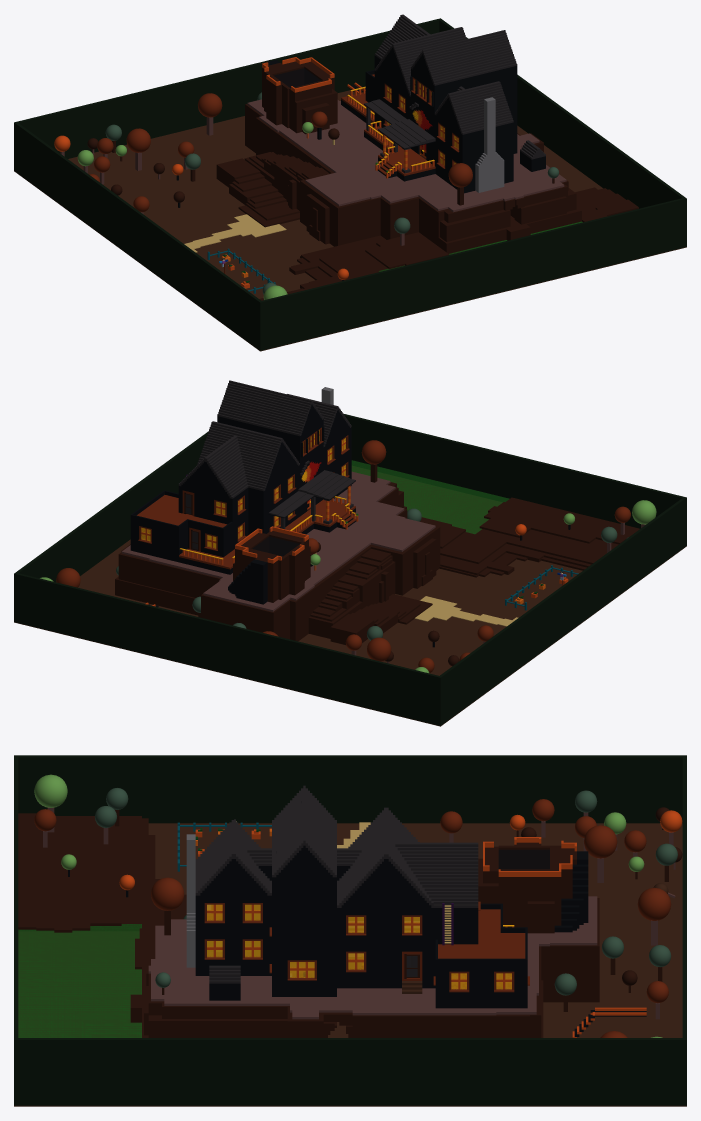
File: HauntedMansion.obj
The picture shows the model from 3 angles, top to bottom: view 1: azimuth 30°, elevation 25°; view 2: azimuth 150°, elevation 25°; view 3: azimuth 270°, elevation 25°; orthographic projection. The views are drawn at different scales.
Visible parts, largest first — view 1: SmoothBlockModel501, Floor1, SmoothBlockModel500, SmoothBlockModel499, SmoothBlockModel498, SmoothBlockModel328, SmoothBlockModel408, SmoothBlockModel400, SmoothBlockModel321, SmoothBlockModel385, SmoothBlockModel482, SmoothBlockModel461 (+21 smaller); view 2: SmoothBlockModel499, Floor1, SmoothBlockModel501, SmoothBlockModel500, SmoothBlockModel498, Greengoo1, SmoothBlockModel328, SmoothBlockModel470, SmoothBlockModel492, SmoothBlockModel452, SmoothBlockModel461, SmoothBlockModel408 (+23 smaller); view 3: SmoothBlockModel498, SmoothBlockModel500, Floor1, Greengoo1, SmoothBlockModel492, SmoothBlockModel397, SmoothBlockModel395, SmoothBlockModel545, SmoothBlockModel470, SmoothBlockModel2570, SmoothBlockModel330, SmoothBlockModel490 (+38 smaller).
Part boxes in pixels (<box>): SmoothBlockModel501: <box>262,197,686,349</box>; Floor1: <box>14,86,686,351</box>; SmoothBlockModel500: <box>15,123,263,350</box>; SmoothBlockModel499: <box>14,19,439,171</box>; SmoothBlockModel498: <box>438,18,684,208</box>; SmoothBlockModel328: <box>279,124,418,199</box>; SmoothBlockModel408: <box>300,172,380,246</box>; SmoothBlockModel400: <box>419,207,581,254</box>; SmoothBlockModel321: <box>412,174,502,212</box>; SmoothBlockModel385: <box>440,209,510,241</box>; SmoothBlockModel482: <box>376,232,449,265</box>; SmoothBlockModel461: <box>256,117,333,173</box>; SmoothBlockModel499: <box>17,573,442,725</box>; Floor1: <box>14,466,686,726</box>; SmoothBlockModel501: <box>343,413,683,528</box>; SmoothBlockModel500: <box>440,497,686,724</box>; SmoothBlockModel498: <box>14,431,208,622</box>; Greengoo1: <box>351,460,509,534</box>; SmoothBlockModel328: <box>305,505,405,585</box>; SmoothBlockModel470: <box>201,594,289,639</box>; SmoothBlockModel492: <box>475,529,618,564</box>; SmoothBlockModel452: <box>135,557,220,597</box>; SmoothBlockModel461: <box>289,546,371,641</box>; SmoothBlockModel408: <box>369,526,440,595</box>; SmoothBlockModel498: <box>18,1038,686,1105</box>; SmoothBlockModel500: <box>14,755,682,823</box>; Floor1: <box>14,823,686,1106</box>; Greengoo1: <box>18,924,141,1037</box>; SmoothBlockModel492: <box>19,816,141,930</box>; SmoothBlockModel397: <box>382,1014,529,1037</box>; SmoothBlockModel395: <box>148,1015,287,1037</box>; SmoothBlockModel545: <box>498,869,561,927</box>; SmoothBlockModel470: <box>554,898,599,1002</box>; SmoothBlockModel2570: <box>274,916,336,952</box>; SmoothBlockModel330: <box>151,971,538,995</box>; SmoothBlockModel490: <box>18,813,36,929</box>.
Size of the model in its own units: 300 by 106 by 300.
40 materials, 1 textured.
